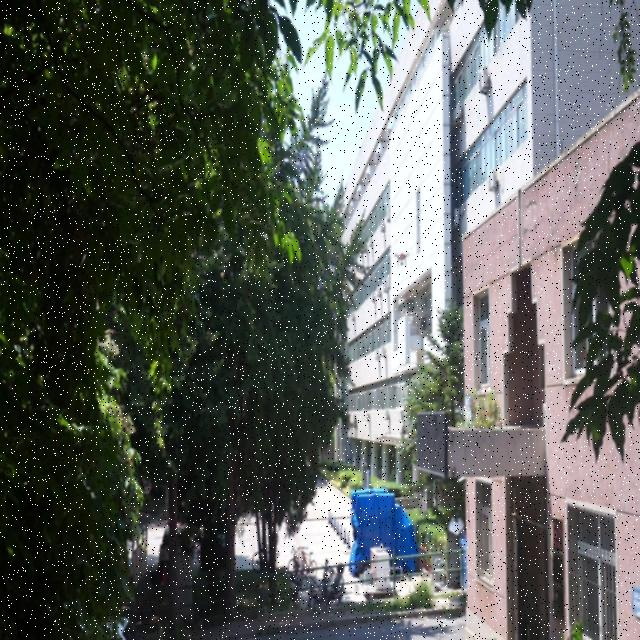UAV: (390, 252, 414, 268)
